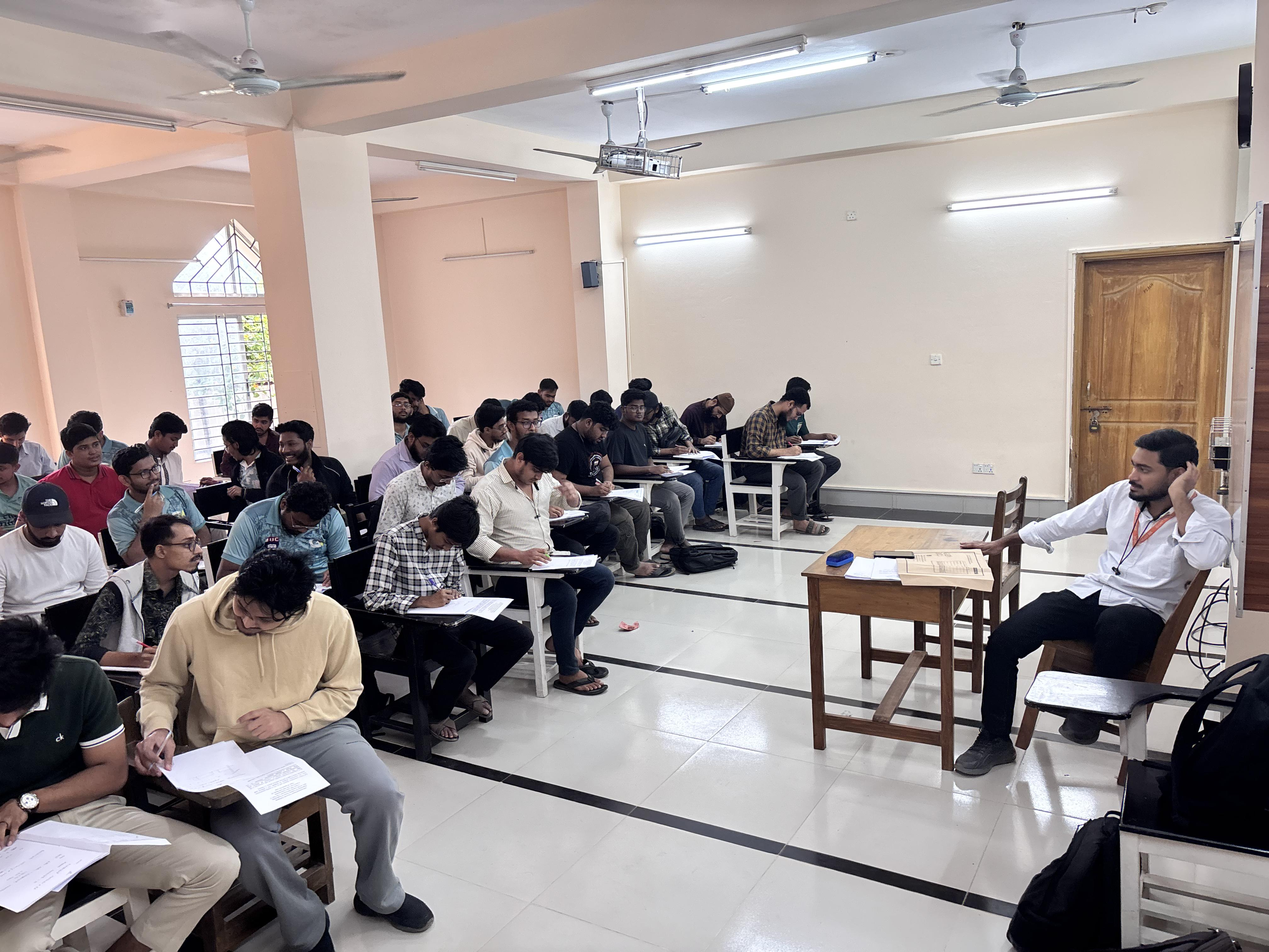copying: (138, 559, 355, 942), (205, 423, 280, 504), (249, 401, 281, 443)
invigilator: (977, 391, 1249, 724)
no_cheating: (0, 624, 176, 952), (370, 491, 511, 708), (98, 512, 220, 695), (5, 487, 123, 667), (489, 428, 580, 627), (234, 474, 356, 564), (741, 388, 823, 496), (560, 405, 619, 534), (393, 441, 468, 539), (111, 442, 189, 520), (614, 394, 663, 503), (151, 414, 215, 486), (58, 423, 115, 501), (685, 384, 746, 452), (381, 419, 461, 468), (453, 402, 513, 461), (6, 411, 52, 462), (513, 400, 547, 442), (391, 394, 416, 432)
side_talking: (265, 426, 350, 496)
